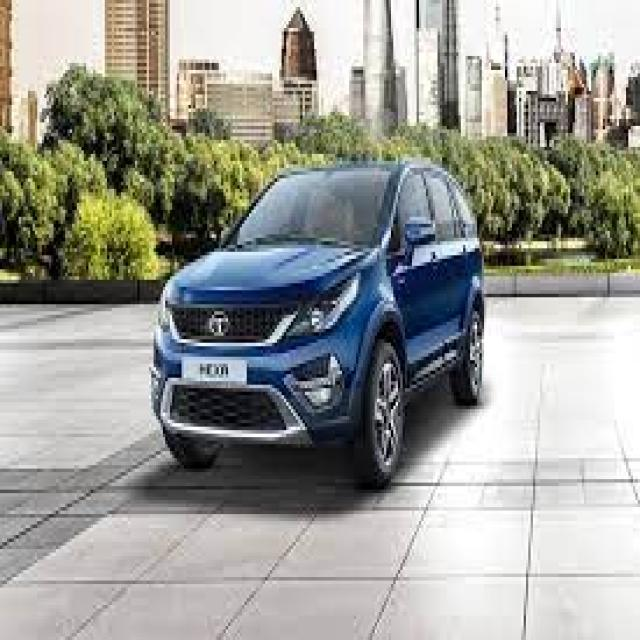Car: (147, 151, 492, 483)
